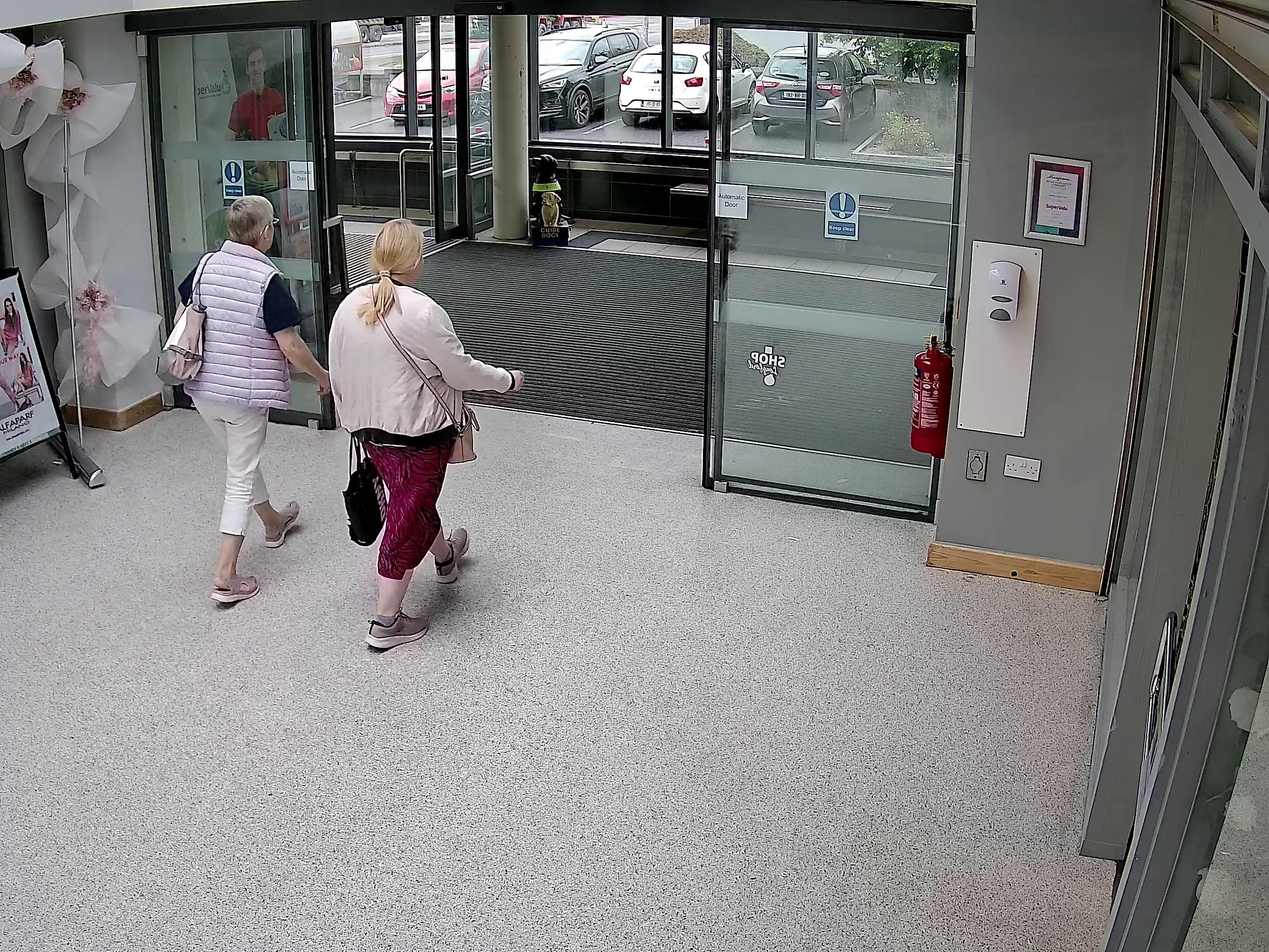backpack-or-handbag: (154, 300, 206, 386), (441, 402, 481, 465)
filled-shopping-bags: (337, 437, 389, 546)
person: (330, 217, 524, 650), (173, 197, 332, 603)
person-with-backpack-handbag: (155, 197, 330, 603)
person-with-backpack-handbag-and-shopping-bag-s-: (329, 215, 525, 648)
